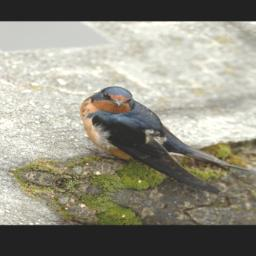Swallow: (55, 79, 256, 203)
